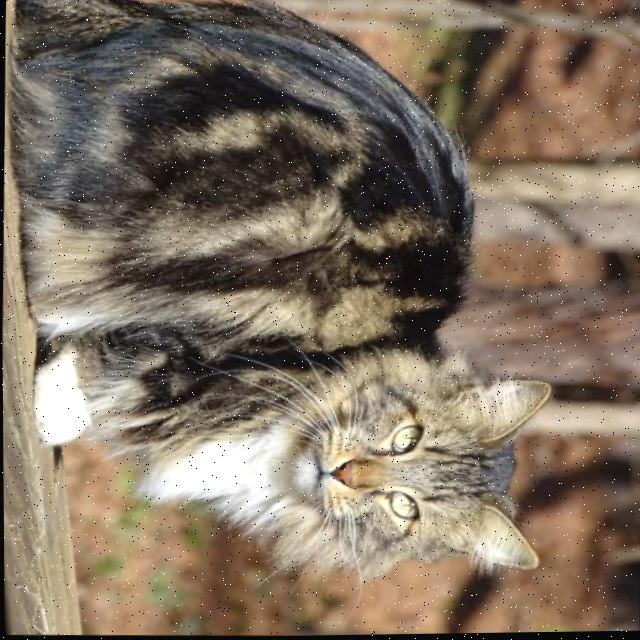American Bobtail: (0, 0, 562, 588)
